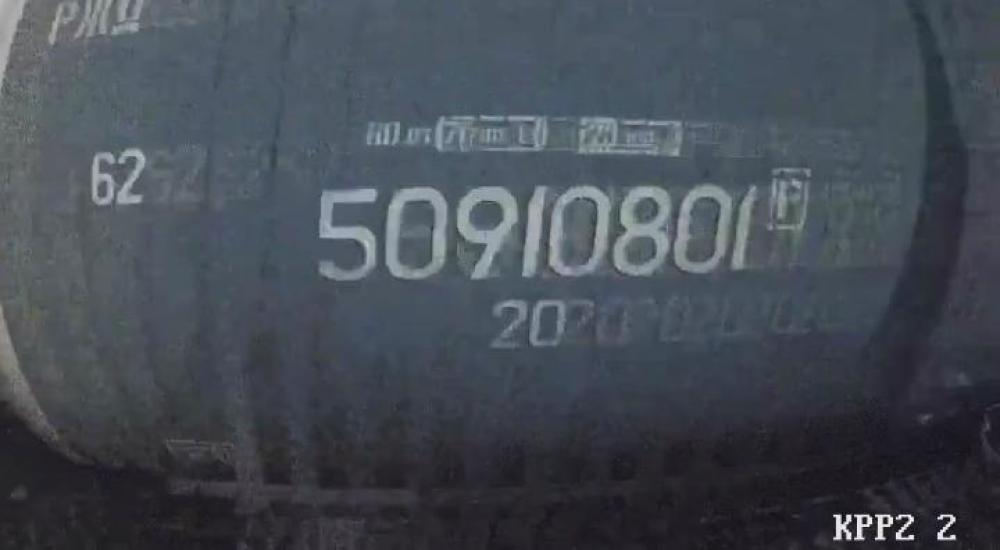Wagon-number: (310, 178, 764, 288)
